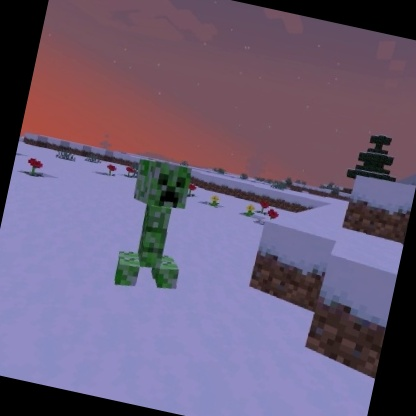creeper: (109, 152, 206, 301)
